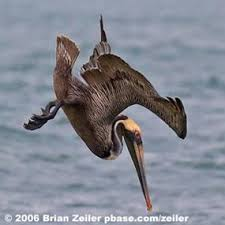pelican: (23, 14, 189, 210)
